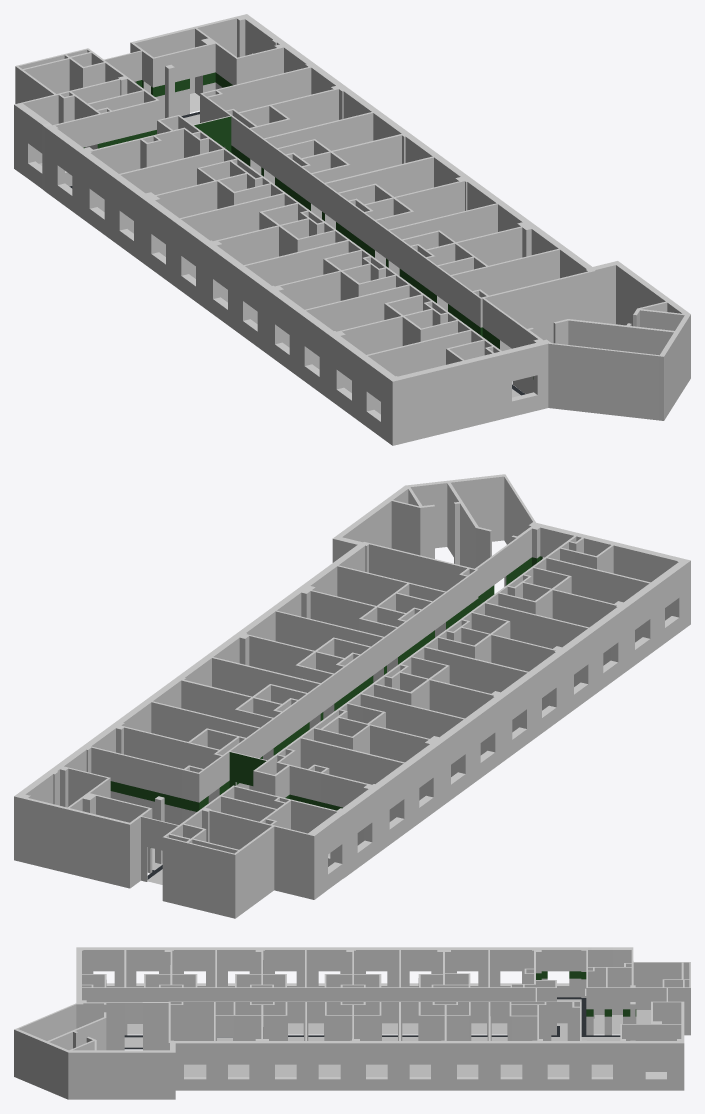
File: Palata3_4thFloor.fbx
The picture shows the model from 3 angles, top to bottom: view 1: azimuth 30°, elevation 25°; view 2: azimuth 150°, elevation 25°; view 3: azimuth 270°, elevation 25°; orthographic projection. The views are drawn at different scales.
Parts seen in each view (by area): view 1: Plane; view 2: Plane; view 3: Plane.
Part boxes in pixels (x1=…): Plane: x1=14, y1=14, x2=690, y2=445; Plane: x1=14, y1=474, x2=690, y2=918; Plane: x1=14, y1=947, x2=690, y2=1099.
Size of the model in its own units: 2002 by 421 by 5450.
